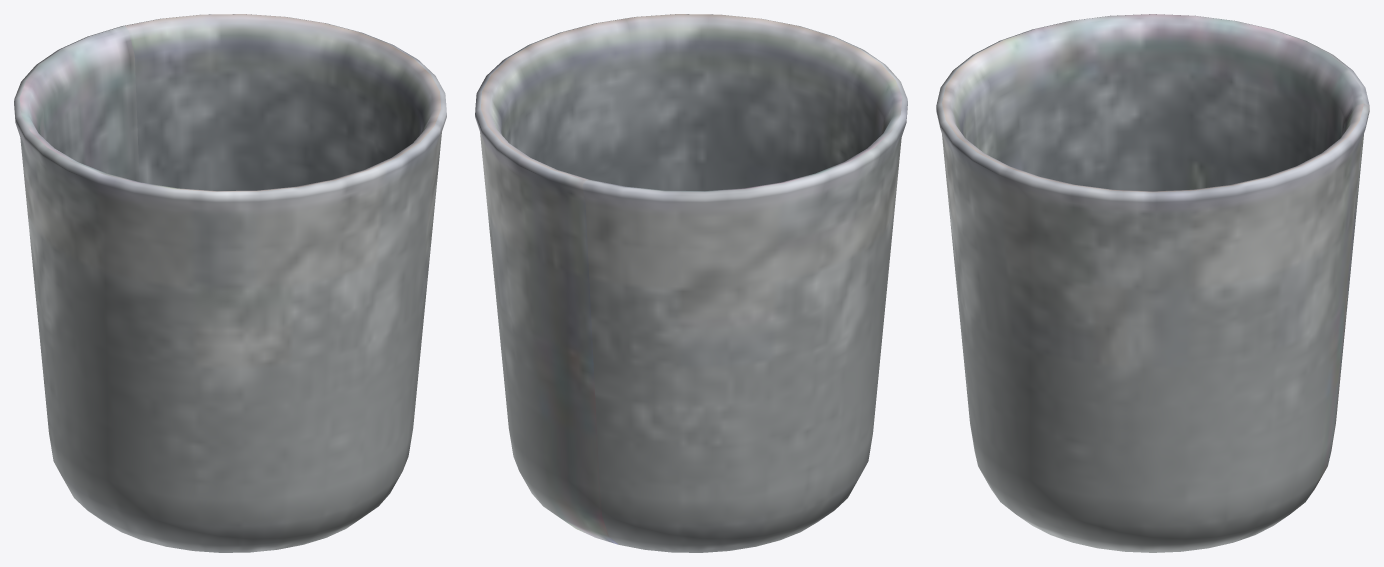
The model's file is ph_pencilcup.glb.
3 renders of one model, left to right at view 1: azimuth 30°, elevation 25°; view 2: azimuth 150°, elevation 25°; view 3: azimuth 270°, elevation 25°, orthographic.
Visible parts, largest first — view 1: stationery_supplies_pencilcup; view 2: stationery_supplies_pencilcup; view 3: stationery_supplies_pencilcup.
Part boxes in pixels (bbox=[...]): stationery_supplies_pencilcup: bbox=[14, 14, 446, 552]; stationery_supplies_pencilcup: bbox=[475, 14, 907, 552]; stationery_supplies_pencilcup: bbox=[936, 14, 1369, 552].
Size of the model in its own units: 0.0837 by 0.0839 by 0.0837.
Materials: 1 (1 with a texture image).
